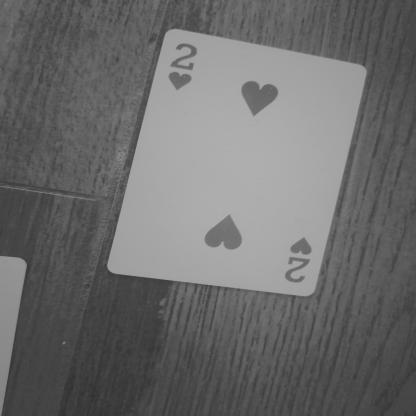2H: (270, 223, 330, 289), (158, 45, 214, 100)
